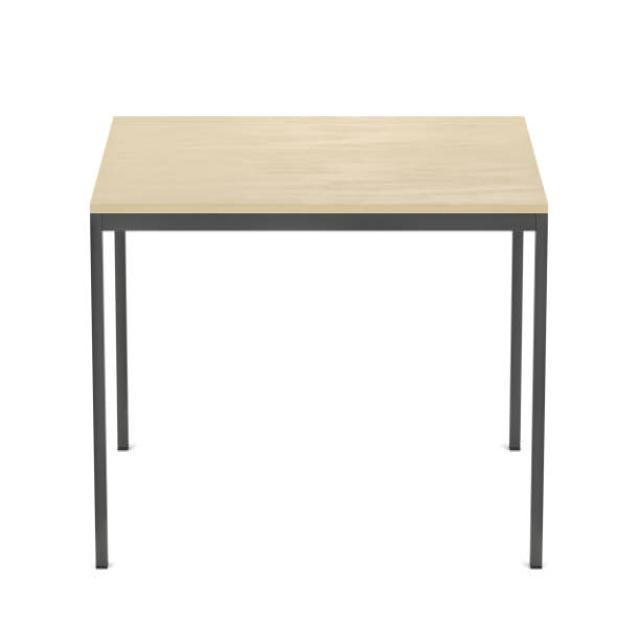table: (89, 113, 549, 571)
